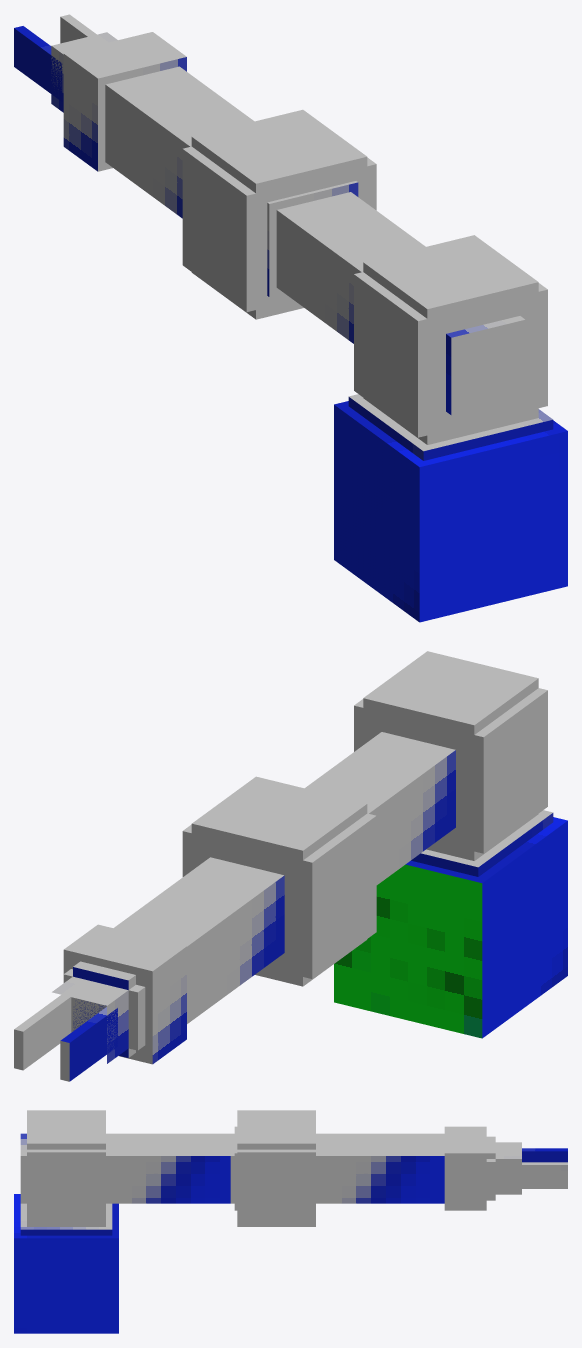
Rendered from arm.gltf.
3 renders of one model, top to bottom at view 1: azimuth 30°, elevation 25°; view 2: azimuth 150°, elevation 25°; view 3: azimuth 270°, elevation 25°, orthographic. The views are drawn at different scales.
Parts seen in each view (by area): view 1: arm1.003, Base.001, arm1.002, claw.001, hand; view 2: arm1.002, Base.001, arm1.003, claw.001, hand; view 3: arm1.002, arm1.003, Base.001, claw.001, hand.
Boxes of the visible parts, bbox=[...] form: arm1.003: bbox=[267, 181, 547, 444]; Base.001: bbox=[334, 394, 567, 622]; arm1.002: bbox=[63, 32, 376, 319]; claw.001: bbox=[14, 14, 96, 101]; hand: bbox=[51, 32, 117, 112]; arm1.002: bbox=[63, 776, 376, 1064]; Base.001: bbox=[334, 810, 567, 1038]; arm1.003: bbox=[305, 651, 547, 884]; claw.001: bbox=[14, 995, 117, 1081]; hand: bbox=[52, 961, 145, 1063]; arm1.002: bbox=[230, 1110, 486, 1226]; arm1.003: bbox=[20, 1110, 237, 1226]; Base.001: bbox=[14, 1194, 118, 1333]; claw.001: bbox=[509, 1148, 567, 1188]; hand: bbox=[486, 1136, 521, 1200].
Bounding box in the file's own units: 1 × 1.94 × 5.27.
2 materials, 2 textured.
